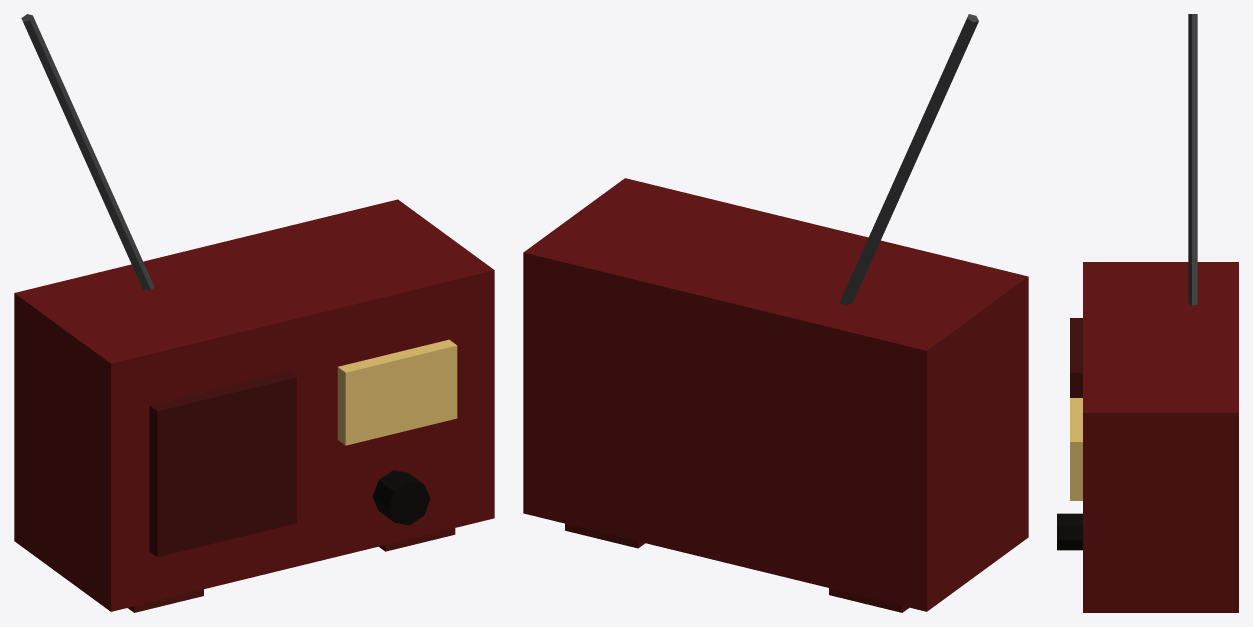
Rendered from radio.obj.
3 renders of one model, left to right at view 1: azimuth 30°, elevation 25°; view 2: azimuth 150°, elevation 25°; view 3: azimuth 270°, elevation 25°, orthographic. The views are drawn at different scales.
Bounding box in the file's own units: 0.5794 × 0.7732 × 0.28.
